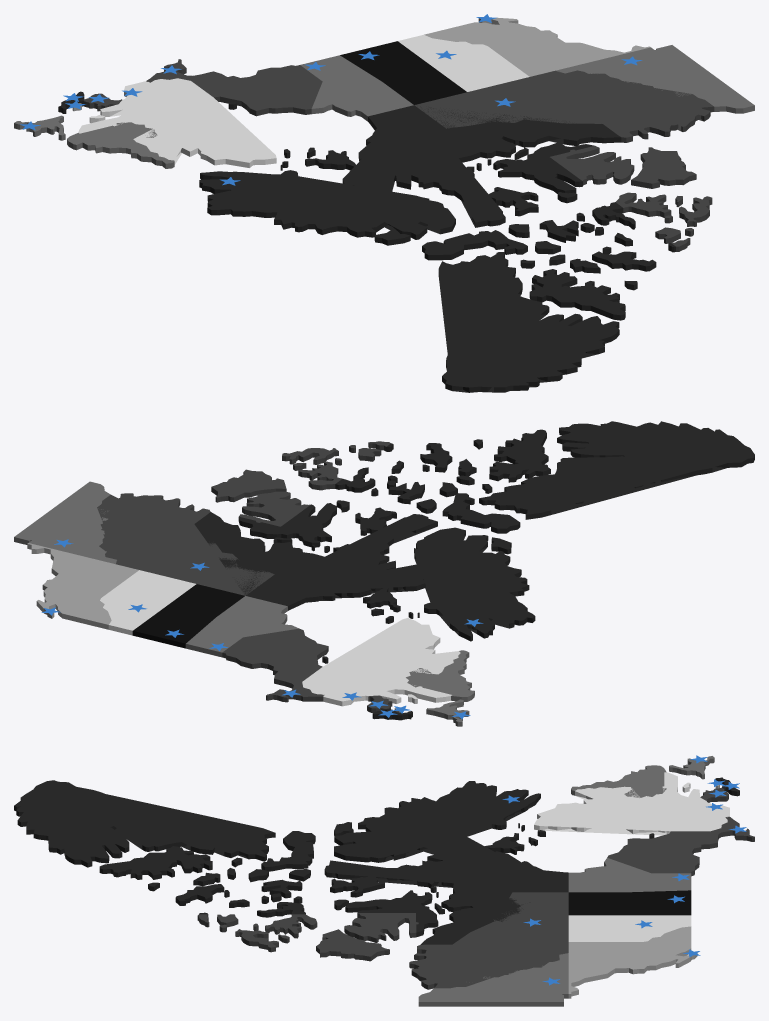
The model's file is Canada_Provinces_3D_V3.fbx.
The picture shows the model from 3 angles, top to bottom: view 1: azimuth 30°, elevation 25°; view 2: azimuth 150°, elevation 25°; view 3: azimuth 270°, elevation 25°; orthographic projection. The views are drawn at different scales.
Visible parts, largest first — view 1: Nunavut_3D_V3, Northwest_Territories_3D_V3, Quebec_3D_V3, British_Columbia_3D_V3, Yukon_3D_V3, Ontario_3D_V3, Manitoba_3D_V3, Alberta_3D_V3, Saskatchewan_3D_V3, Newfoundland_And_Labrador_3D_V3; view 2: Nunavut_3D_V3, Northwest_Territories_3D_V3, Quebec_3D_V3, British_Columbia_3D_V3, Ontario_3D_V3, Yukon_3D_V3, Saskatchewan_3D_V3, Manitoba_3D_V3, Alberta_3D_V3, Newfoundland_And_Labrador_3D_V3; view 3: Nunavut_3D_V3, Northwest_Territories_3D_V3, Quebec_3D_V3, British_Columbia_3D_V3, Yukon_3D_V3, Ontario_3D_V3, Saskatchewan_3D_V3, Alberta_3D_V3, Manitoba_3D_V3, Newfoundland_And_Labrador_3D_V3.
Boxes of the visible parts, x1=… form: Nunavut_3D_V3: x1=199, y1=102, x2=675, y2=392; Northwest_Territories_3D_V3: x1=414, y1=70, x2=714, y2=251; Quebec_3D_V3: x1=78, y1=78, x2=276, y2=167; British_Columbia_3D_V3: x1=424, y1=17, x2=650, y2=76; Yukon_3D_V3: x1=556, y1=45, x2=754, y2=113; Ontario_3D_V3: x1=146, y1=59, x2=322, y2=116; Manitoba_3D_V3: x1=300, y1=55, x2=413, y2=121; Alberta_3D_V3: x1=398, y1=34, x2=529, y2=91; Saskatchewan_3D_V3: x1=340, y1=41, x2=466, y2=104; Newfoundland_And_Labrador_3D_V3: x1=14, y1=115, x2=174, y2=168; Nunavut_3D_V3: x1=194, y1=421, x2=754, y2=663; Northwest_Territories_3D_V3: x1=97, y1=441, x2=390, y2=595; Quebec_3D_V3: x1=302, y1=618, x2=460, y2=706; British_Columbia_3D_V3: x1=27, y1=543, x2=138, y2=629; Ontario_3D_V3: x1=222, y1=628, x2=328, y2=702; Yukon_3D_V3: x1=14, y1=481, x2=116, y2=563; Saskatchewan_3D_V3: x1=132, y1=584, x2=244, y2=648; Manitoba_3D_V3: x1=185, y1=596, x2=298, y2=657; Alberta_3D_V3: x1=100, y1=570, x2=196, y2=635; Newfoundland_And_Labrador_3D_V3: x1=406, y1=650, x2=474, y2=726; Nunavut_3D_V3: x1=14, y1=780, x2=654, y2=944; Northwest_Territories_3D_V3: x1=197, y1=892, x2=568, y2=989; Quebec_3D_V3: x1=534, y1=772, x2=729, y2=835; British_Columbia_3D_V3: x1=568, y1=926, x2=697, y2=998; Yukon_3D_V3: x1=418, y1=953, x2=568, y2=1006; Ontario_3D_V3: x1=607, y1=816, x2=754, y2=876; Saskatchewan_3D_V3: x1=568, y1=890, x2=691, y2=915; Alberta_3D_V3: x1=568, y1=915, x2=691, y2=941; Manitoba_3D_V3: x1=568, y1=858, x2=691, y2=892; Newfoundland_And_Labrador_3D_V3: x1=571, y1=756, x2=714, y2=797.
Size of the model in its own units: 1126 by 10.1 by 1431.
